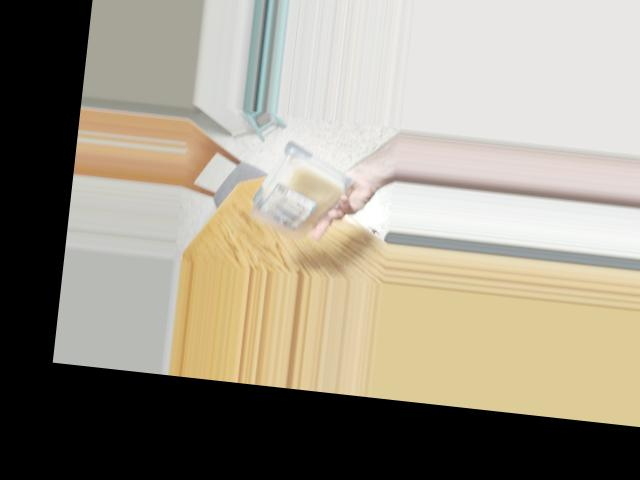cheese: (242, 143, 353, 233)
